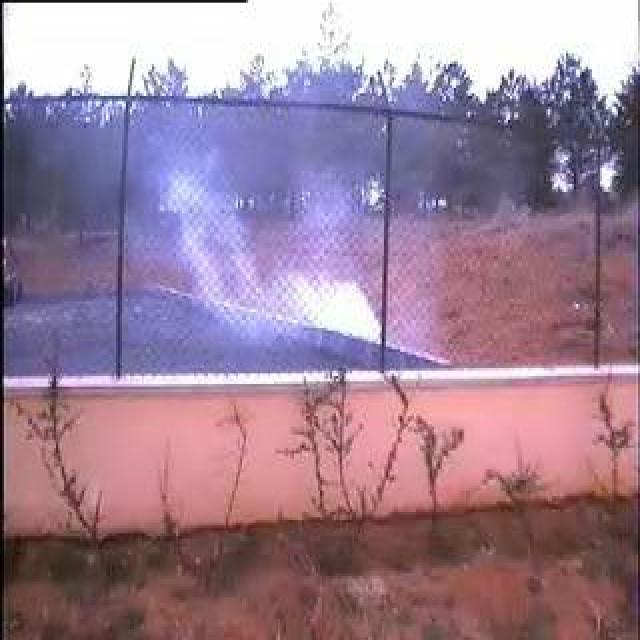Smoke: (162, 117, 384, 326)
